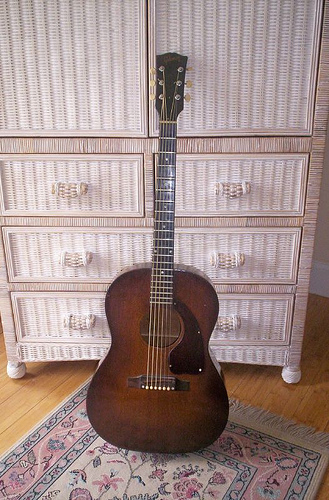guitar: (87, 52, 231, 455)
